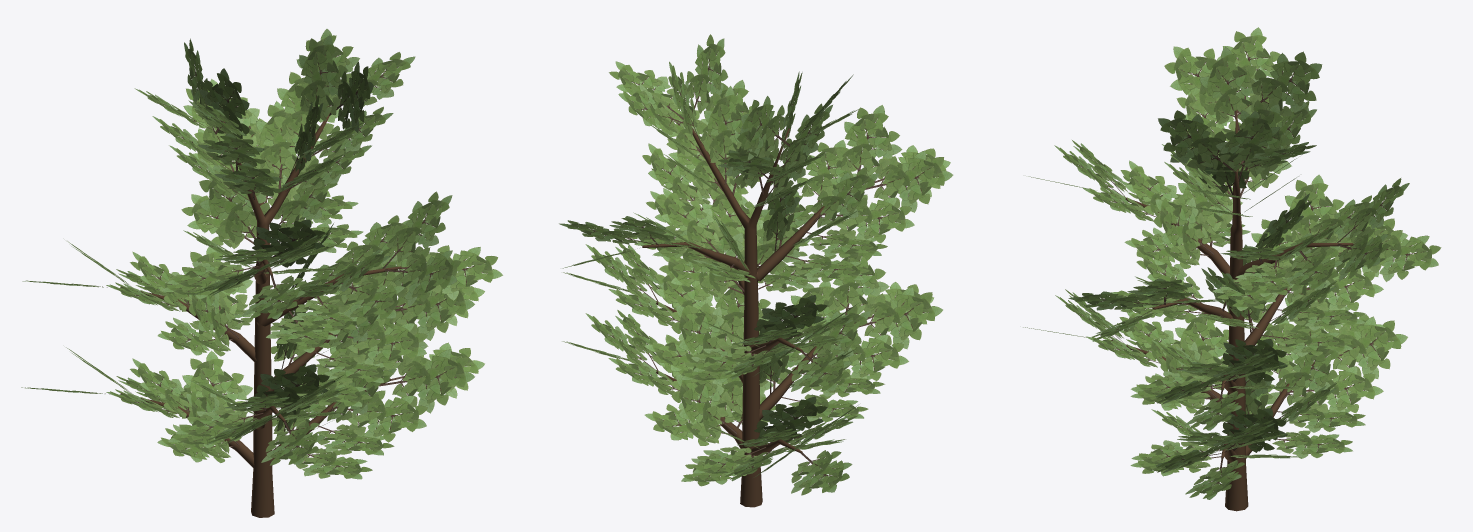
Rendered from Basswood Tree.fbx.
3 views of the same model, side by side, from view 1: azimuth 30°, elevation 25°; view 2: azimuth 150°, elevation 25°; view 3: azimuth 270°, elevation 25° (orthographic). The views are drawn at different scales.
Visible parts, largest first — view 1: Cylinder, Cylinder.001; view 2: Cylinder, Cylinder.001; view 3: Cylinder, Cylinder.001.
Boxes of the visible parts, x1,y1,x2,y2 form: Cylinder: [21, 29, 502, 479]; Cylinder.001: [120, 113, 401, 517]; Cylinder: [559, 34, 953, 495]; Cylinder.001: [642, 123, 855, 507]; Cylinder: [1023, 27, 1441, 499]; Cylinder.001: [1110, 110, 1352, 511].
Bounding box in the file's own units: 1060 × 1223 × 1089.
